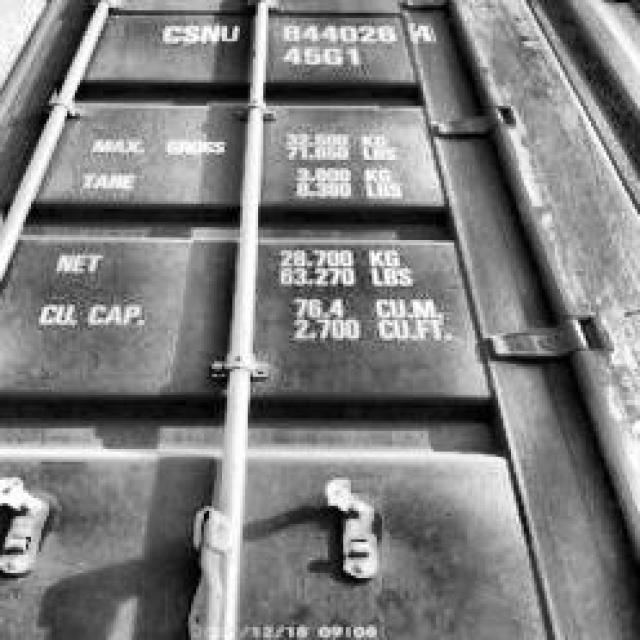container_number: (157, 12, 454, 47), (283, 46, 364, 71)
